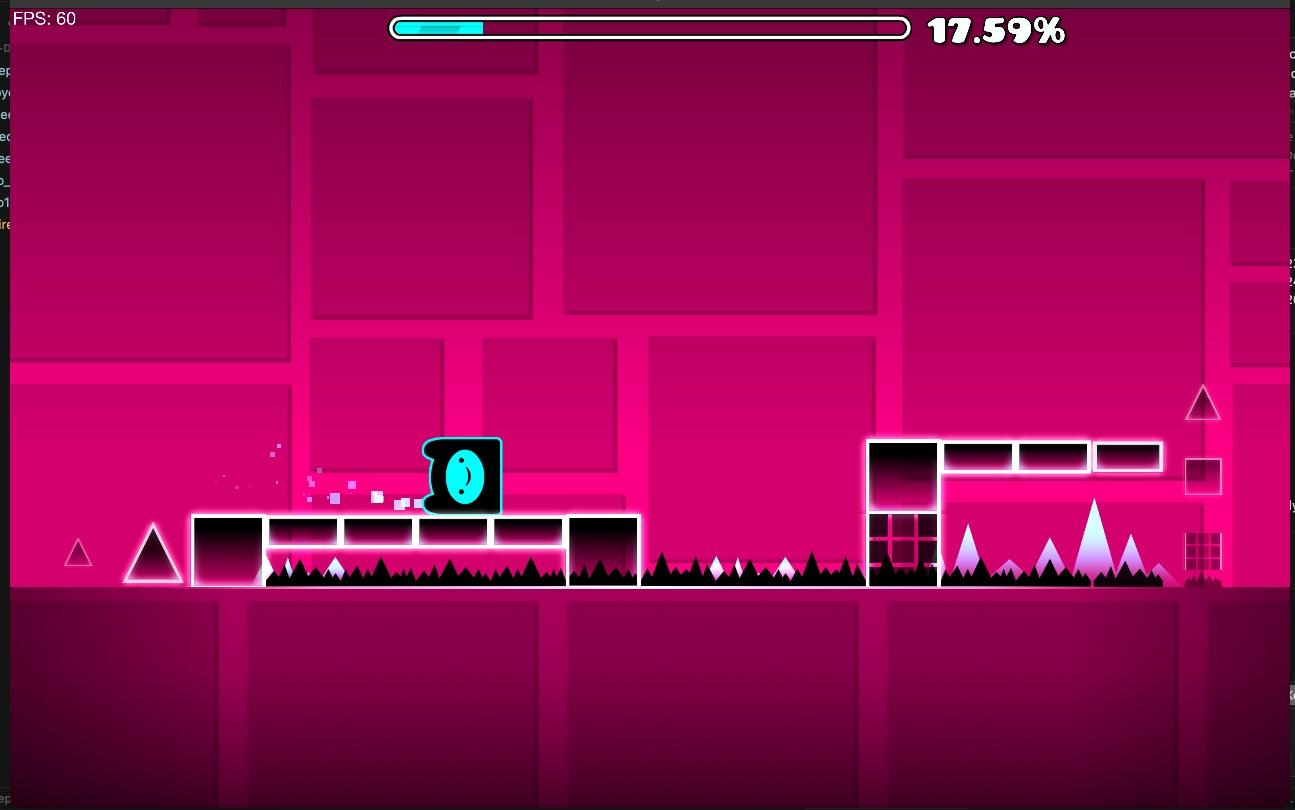block: (867, 443, 942, 588), (192, 515, 260, 586), (573, 517, 637, 573)
platform: (263, 515, 568, 551), (944, 441, 1162, 472)
player: (422, 437, 501, 514)
spike: (941, 501, 1120, 586), (641, 553, 866, 586), (124, 524, 182, 582), (1103, 543, 1167, 586)
